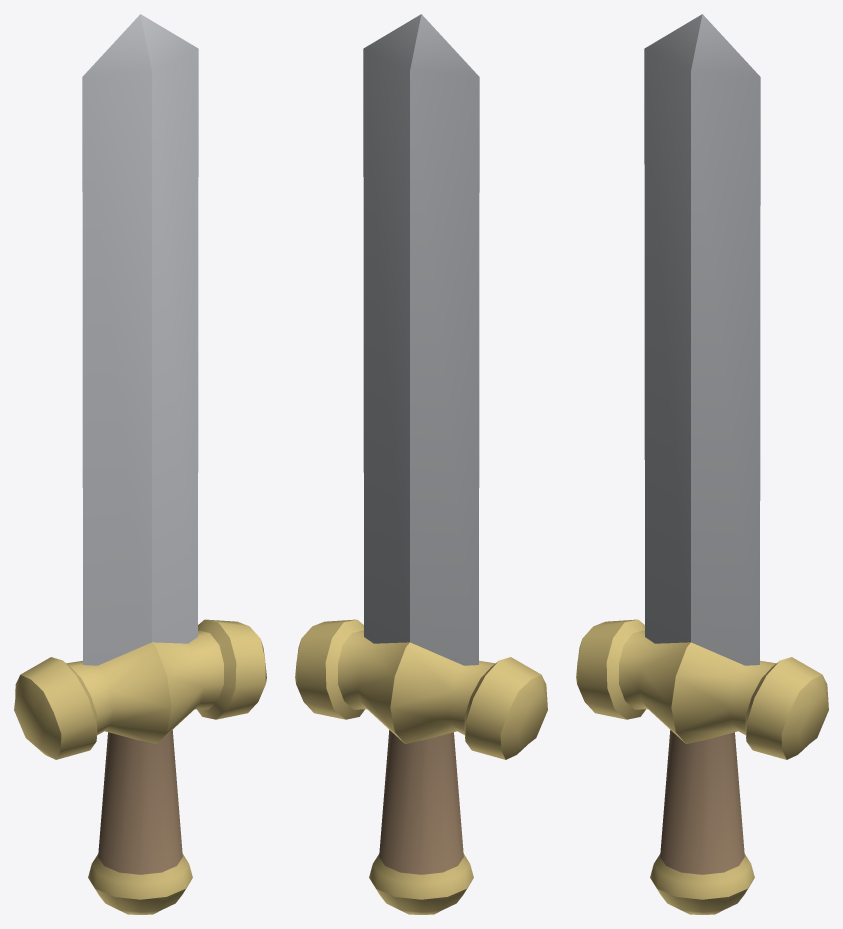
Rendered from weapon_adamant_blade.glb.
3 views of the same model, side by side, from view 1: azimuth 30°, elevation 25°; view 2: azimuth 150°, elevation 25°; view 3: azimuth 330°, elevation 25° (orthographic).
Visible parts, largest first — view 1: adamant_blade; view 2: adamant_blade; view 3: adamant_blade.
Boxes of the visible parts, <box> form: adamant_blade: <box>14,14,266,914</box>; adamant_blade: <box>295,14,547,914</box>; adamant_blade: <box>576,14,828,914</box>.
Size of the model in its own units: 0.3119 by 1.15 by 0.1456.
